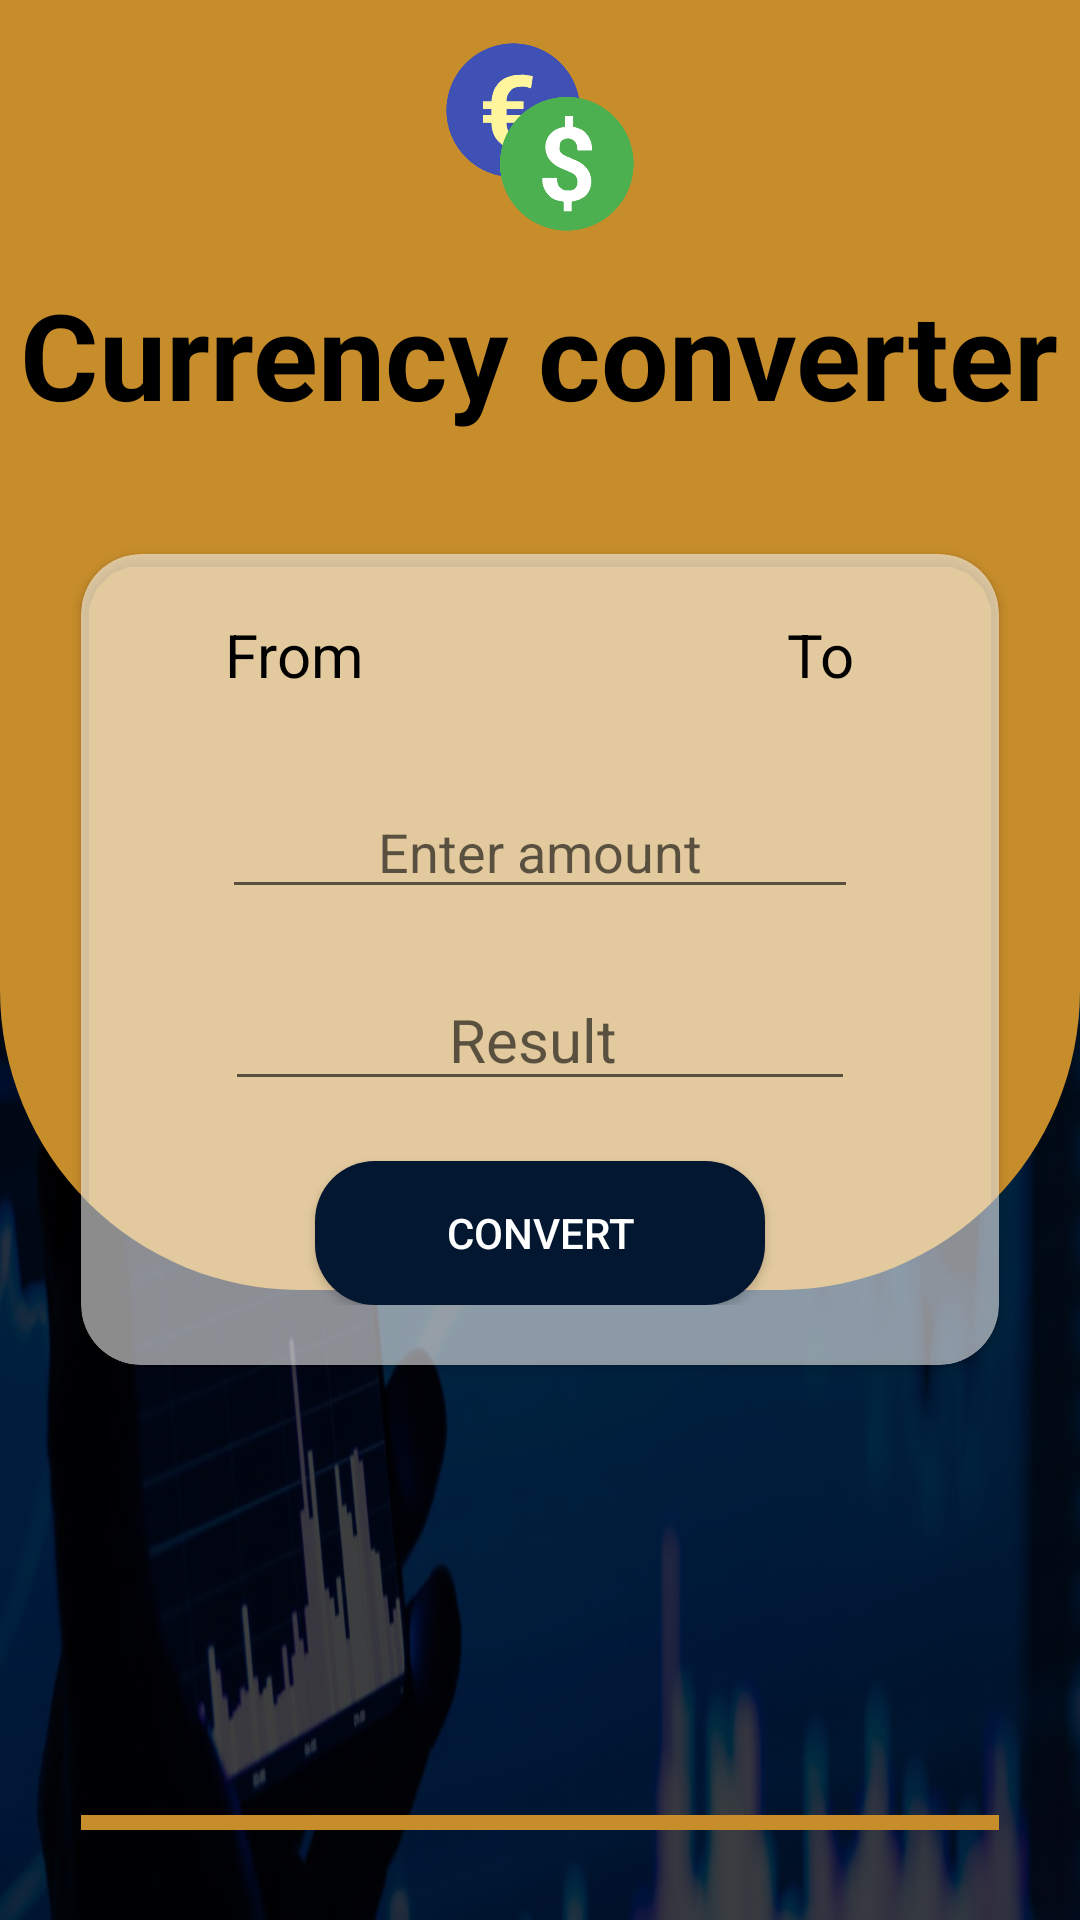

Where icons sit on this 1080*1920 app screen, as (x1, y1, x2, y2):
currencyimage: (446, 43, 634, 231)
